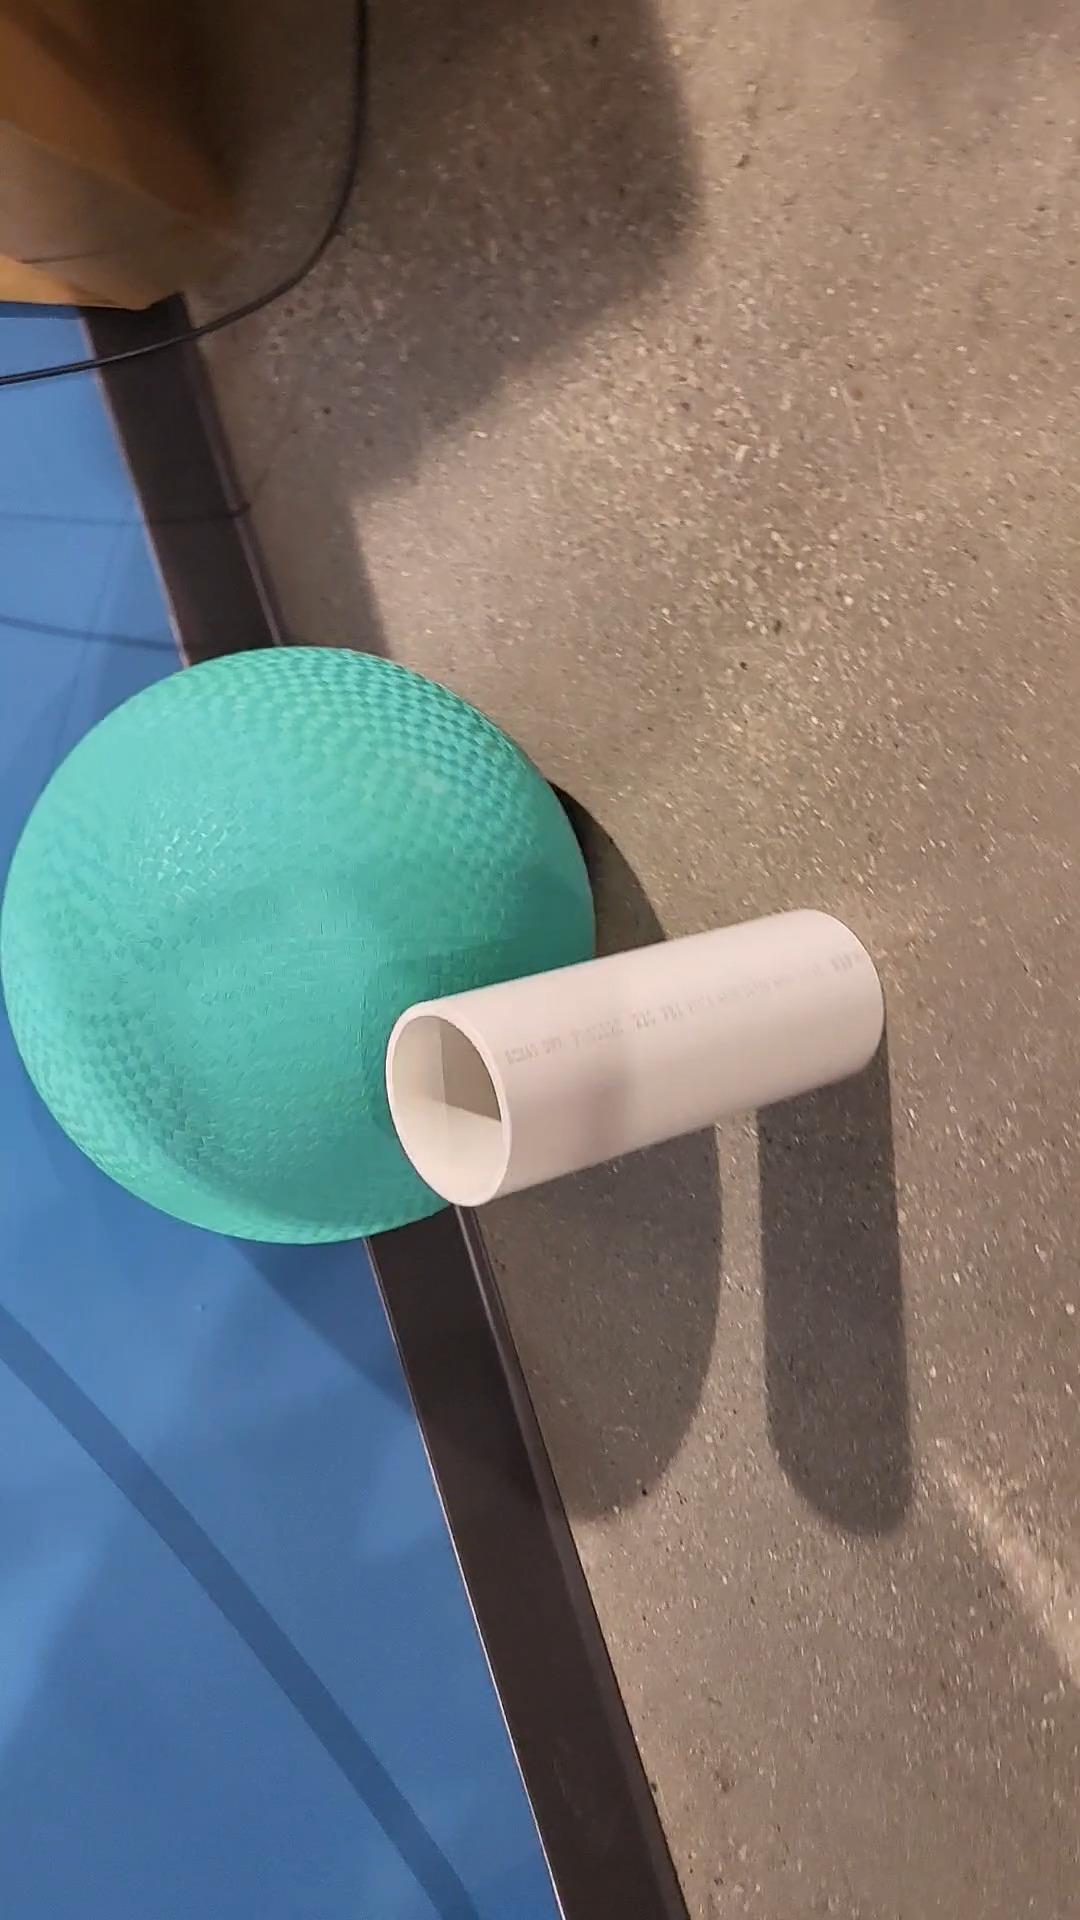algae: (0, 645, 601, 1244)
coral: (388, 906, 885, 1208)
